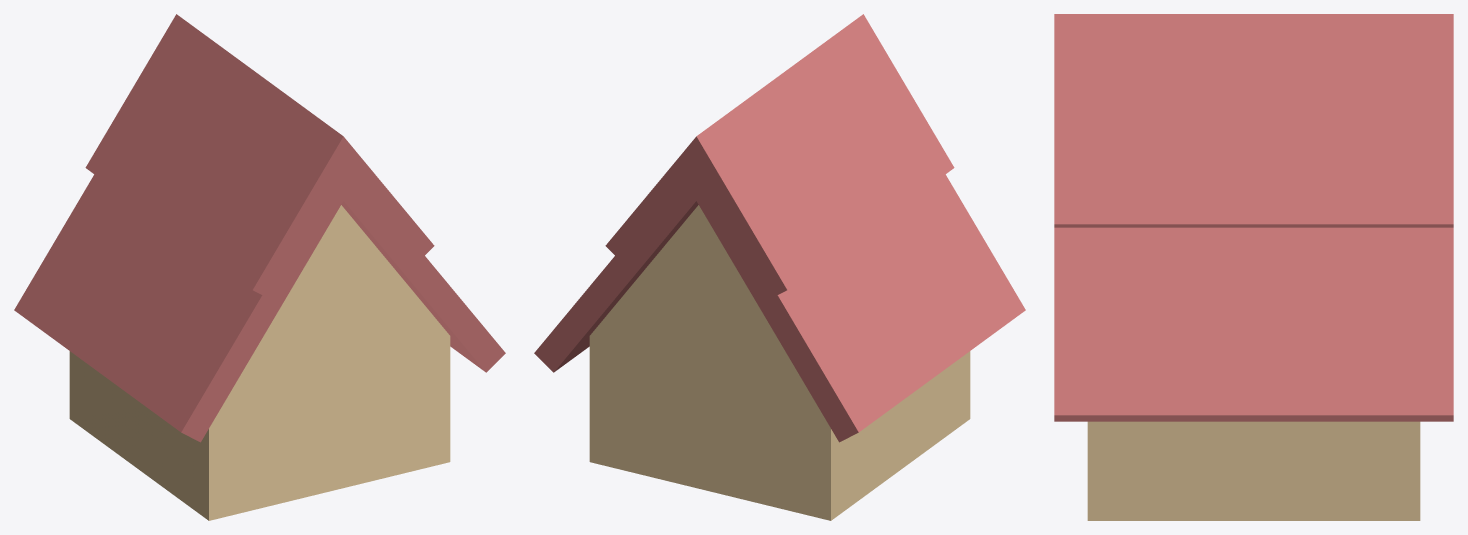
The model's file is House.fbx.
3 views of the same model, side by side, from view 1: azimuth 30°, elevation 25°; view 2: azimuth 150°, elevation 25°; view 3: azimuth 270°, elevation 25° (orthographic). The views are drawn at different scales.
Visible parts, largest first — view 1: House; view 2: House; view 3: House.
Boxes of the visible parts, x1,y1,x2,y2 form: House: (14,14,505,520); House: (534,14,1025,520); House: (1054,14,1453,520).
Bounding box in the file's own units: 135 × 145 × 120.
